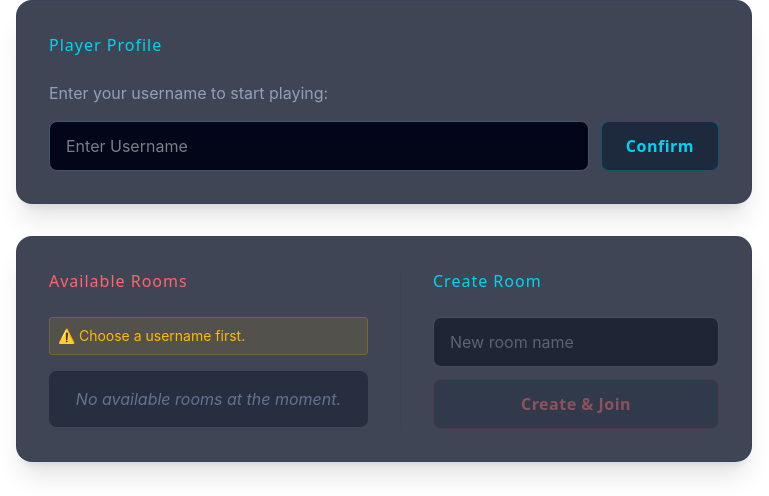
it: Frontpage: username › registers the username and shows it
The image size is (769, 496).
In the field with placeholder "Enter Username": (319, 146) x1=49 y1=121 x2=589 y2=171, type "alice"
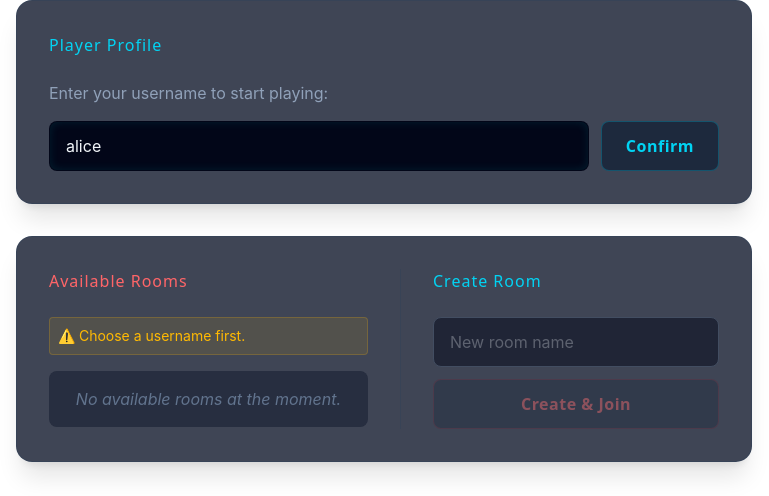
Click the button "Confirm": (660, 146) x1=601 y1=121 x2=719 y2=171
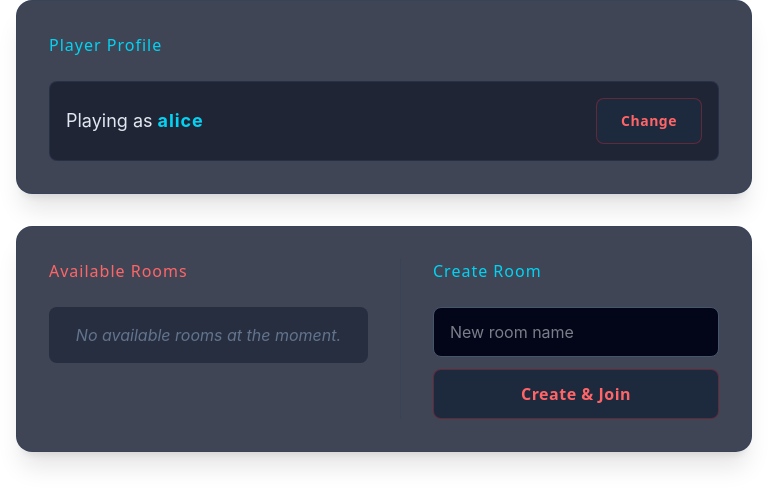
Expected: the text "alice" is shown, x1=158 y1=110 x2=204 y2=131
Expected: the text "Playing as alice" is shown, x1=66 y1=107 x2=204 y2=135
